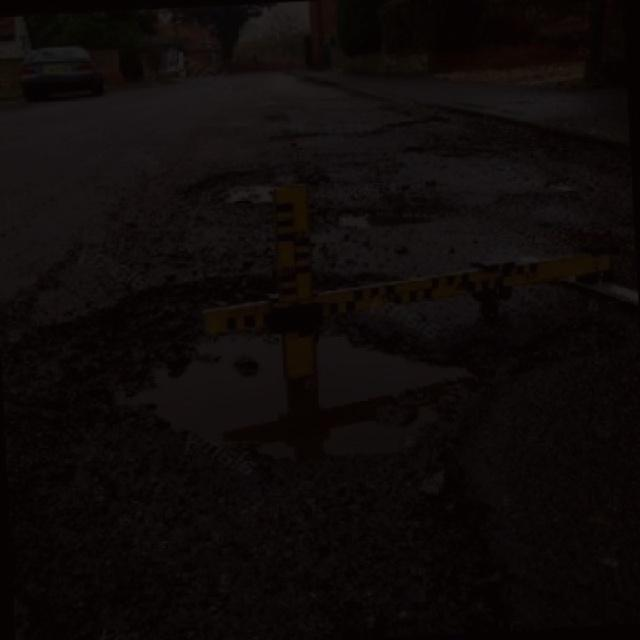Pothole: (41, 270, 478, 507), (195, 149, 317, 213), (326, 200, 449, 237)
